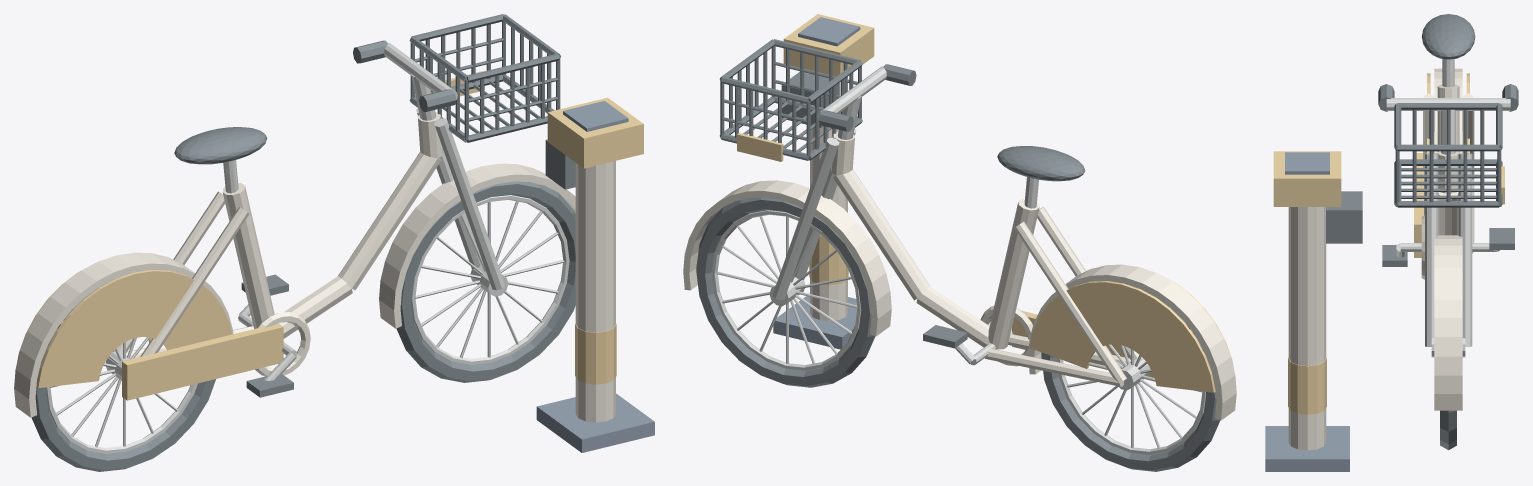
The model's file is prop-youbike.glb.
3 views of the same model, side by side, from view 1: azimuth 30°, elevation 25°; view 2: azimuth 150°, elevation 25°; view 3: azimuth 270°, elevation 25° (orthographic). The views are drawn at different scales.
Visible parts, largest first — view 1: mudguard_11, ring_0; view 2: mudguard_11, ring_0; view 3: ring_0, mudguard_11.
Part boxes in pixels (x1=…): mudguard_11: x1=14, y1=71, x2=643, y2=422; ring_0: x1=31, y1=14, x2=654, y2=471; mudguard_11: x1=683, y1=14, x2=1236, y2=420; ring_0: x1=696, y1=17, x2=1220, y2=471; ring_0: x1=1265, y1=14, x2=1518, y2=471; mudguard_11: x1=1273, y1=68, x2=1504, y2=450.
Size of the model in its own units: 2.19 by 1.23 by 0.899.
2 materials, 2 textured.
